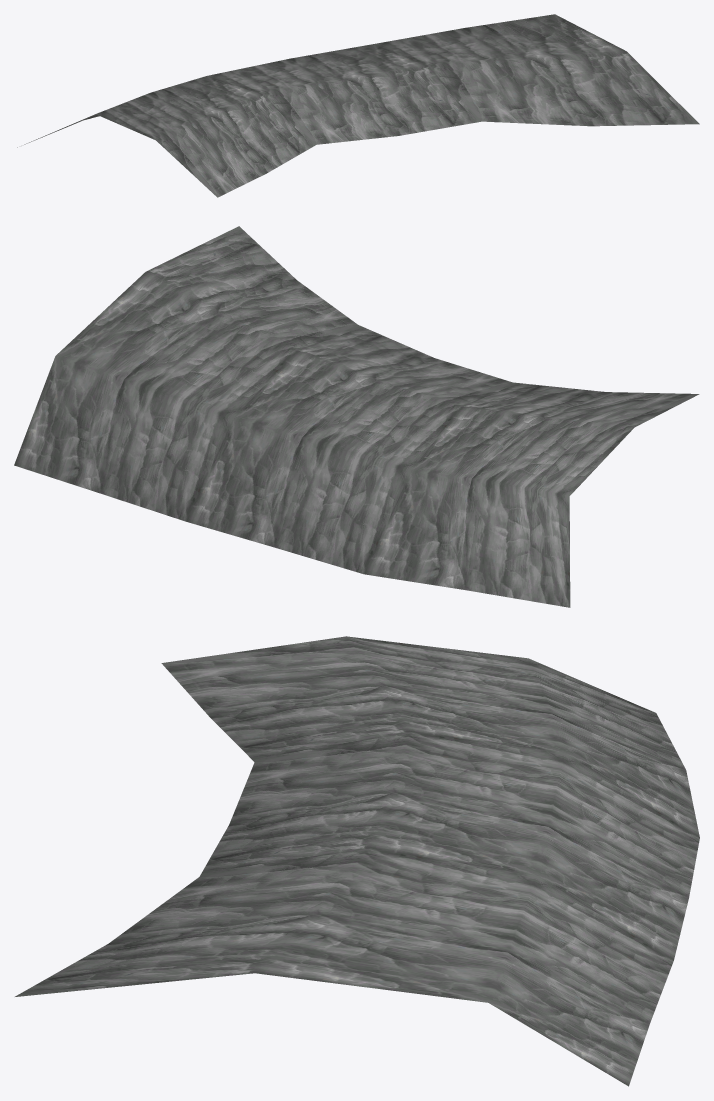
The model's file is SWORDLIGHT20_PS-AREA04_18.fbx.
3 renders of one model, top to bottom at view 1: azimuth 30°, elevation 25°; view 2: azimuth 150°, elevation 25°; view 3: azimuth 270°, elevation 25°, orthographic. The views are drawn at different scales.
Parts seen in each view (by area): view 1: SWORDLIGHT20_PS-AREA04_18; view 2: SWORDLIGHT20_PS-AREA04_18; view 3: SWORDLIGHT20_PS-AREA04_18.
Boxes of the visible parts, x1,y1,x2,y2 form: SWORDLIGHT20_PS-AREA04_18: [17, 14, 699, 197]; SWORDLIGHT20_PS-AREA04_18: [14, 226, 699, 607]; SWORDLIGHT20_PS-AREA04_18: [15, 636, 699, 1086].
Bounding box in the file's own units: 135270 × 19916 × 104199.
Materials: 1 (1 with a texture image).
